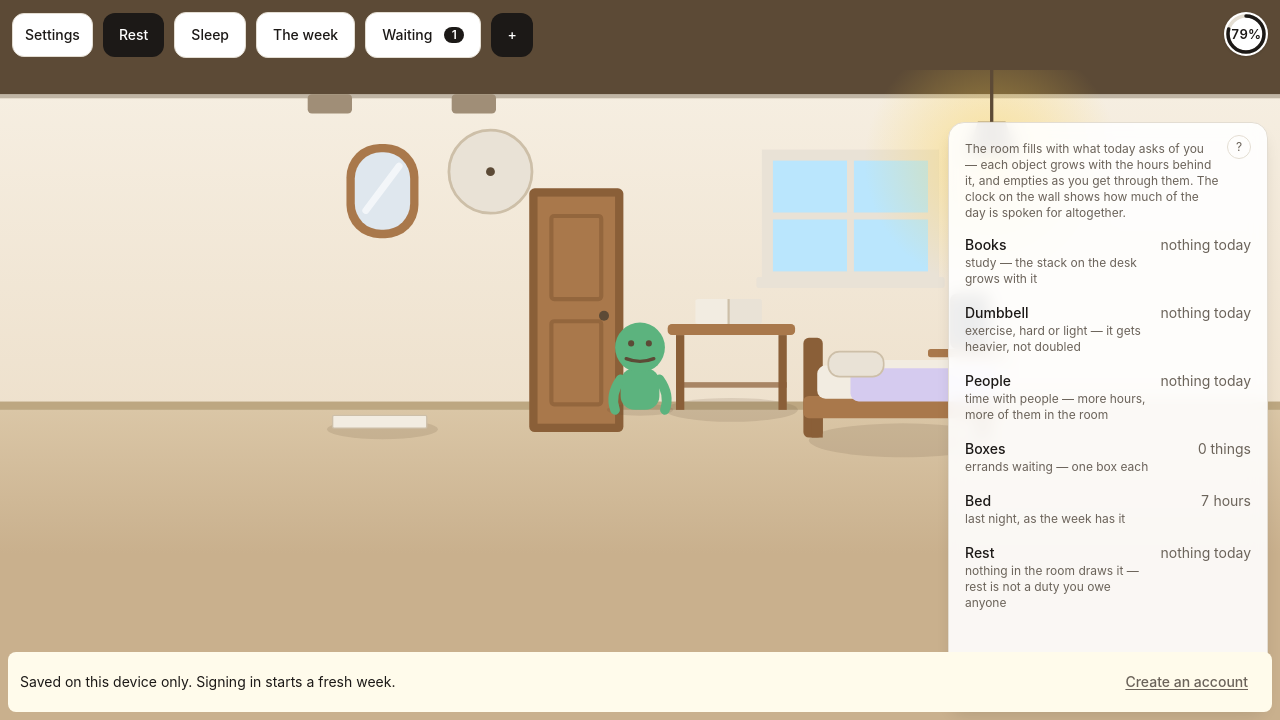
Test: what is still owed an answer › lists everything owed, now that no card asks about one of them
What coordinates should you click on to do the following:
click the button with test id "open-notices"
I would click on:
 (423, 35)
Its box is [365,12,481,58].
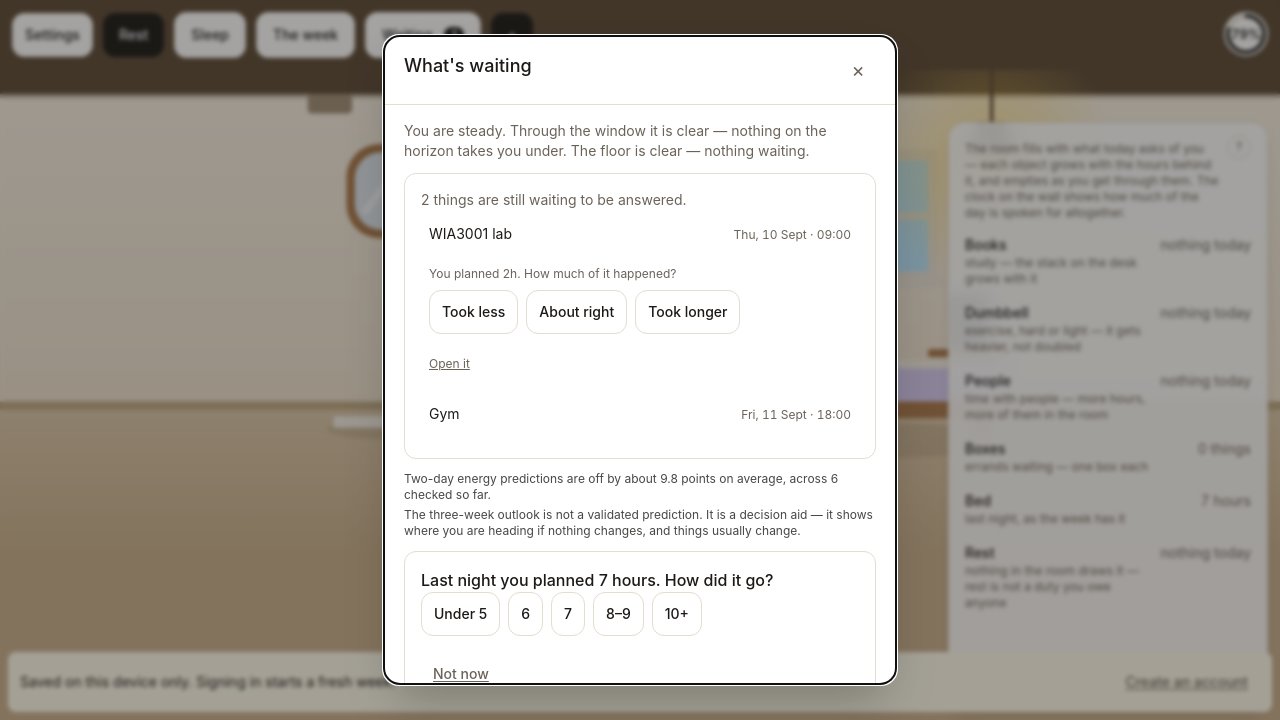
Now the button with test id "pending-gym" shows "Gym", box [421,398,859,442]
Now the button with test id "pending-lab" shows "WIA3001 lab", box [421,218,859,262]
